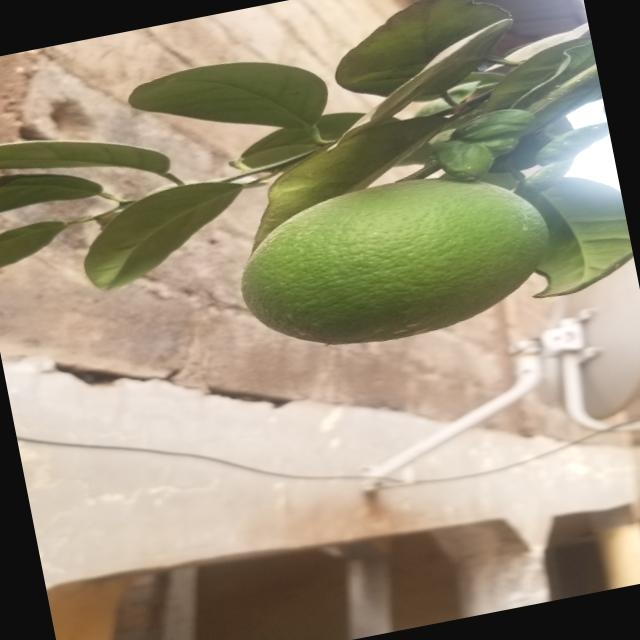agrume: (212, 146, 567, 386)
